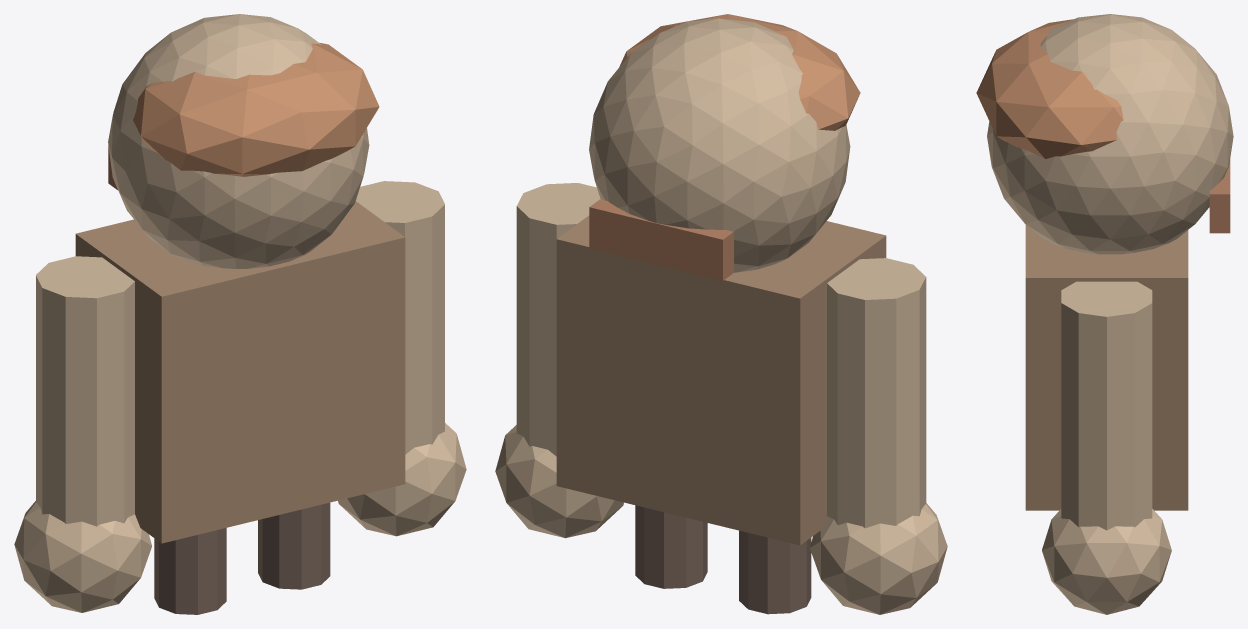
The model's file is giant.glb.
The picture shows the model from 3 angles, left to right: view 1: azimuth 30°, elevation 25°; view 2: azimuth 150°, elevation 25°; view 3: azimuth 270°, elevation 25°; orthographic projection. The views are drawn at different scales.
Visible parts, largest first — view 1: giant_0, giant_1, giant_4, giant_2, giant_7, giant_5, giant_8, giant_6, giant_9; view 2: giant_0, giant_1, giant_4, giant_7, giant_5, giant_8, giant_3, giant_6, giant_9, giant_2; view 3: giant_1, giant_0, giant_7, giant_2, giant_8, giant_3.
Part boxes in pixels (bbox=[...]): giant_0: bbox=[75, 201, 405, 543]; giant_1: bbox=[108, 14, 369, 268]; giant_4: bbox=[36, 256, 134, 526]; giant_2: bbox=[133, 43, 379, 176]; giant_7: bbox=[356, 181, 444, 454]; giant_5: bbox=[14, 501, 151, 612]; giant_8: bbox=[338, 423, 466, 536]; giant_6: bbox=[154, 528, 226, 614]; giant_9: bbox=[258, 502, 330, 589]; giant_0: bbox=[556, 215, 886, 545]; giant_1: bbox=[589, 18, 850, 272]; giant_4: bbox=[827, 258, 926, 528]; giant_7: bbox=[516, 183, 600, 456]; giant_5: bbox=[810, 503, 947, 614]; giant_8: bbox=[495, 425, 623, 538]; giant_3: bbox=[589, 199, 733, 280]; giant_6: bbox=[739, 530, 811, 614]; giant_9: bbox=[635, 505, 707, 588]; giant_2: bbox=[619, 14, 860, 130]; giant_1: bbox=[987, 14, 1233, 254]; giant_0: bbox=[1025, 225, 1188, 510]; giant_7: bbox=[1061, 281, 1152, 530]; giant_2: bbox=[976, 19, 1123, 158]; giant_8: bbox=[1042, 509, 1171, 614]; giant_3: bbox=[1209, 159, 1230, 233].
Bounding box in the file's own units: 2.76 × 3.4 × 1.5.
